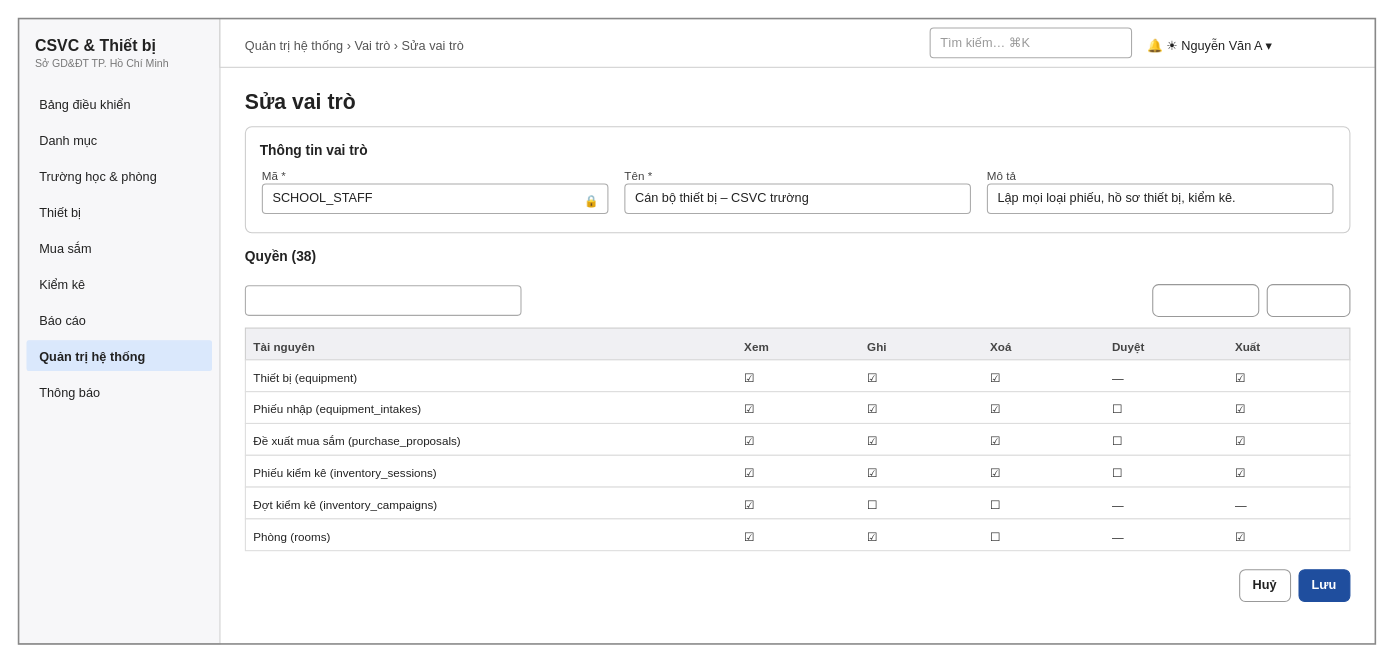
Image size: 1395x664. Some labels were removed from this diagram. Each missing label, with the centre of its shape:
Bỏ chọn: point (1308, 300)
Cấp tất cả: point (1205, 300)
Lọc theo resource hoặc mã: point (382, 300)
